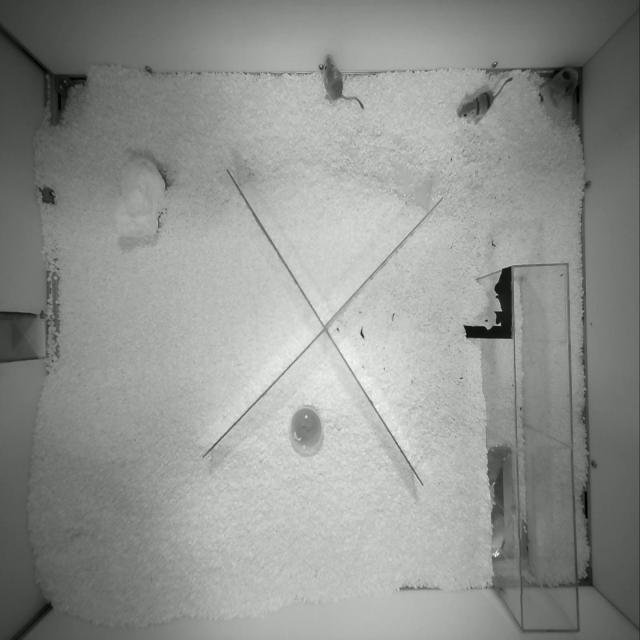pup_fluffy: (319, 54, 364, 108)
pup_h_stripe: (458, 78, 512, 123)
pup_spotted: (541, 67, 578, 107)
